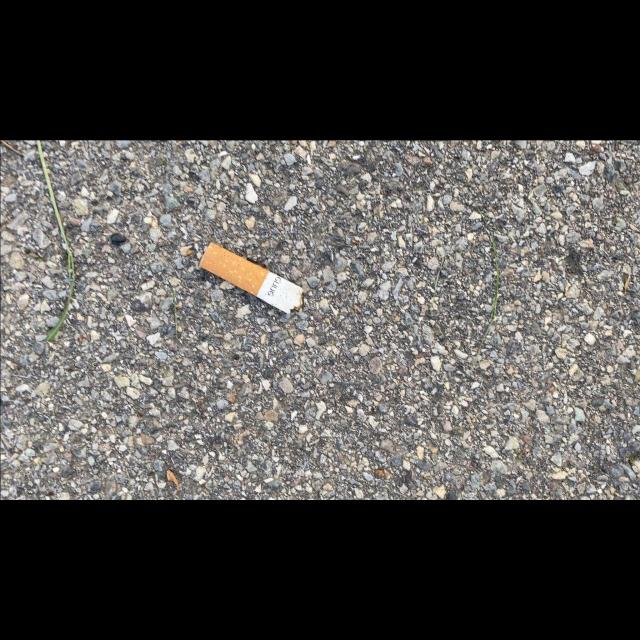cigarette: (198, 241, 304, 315)
